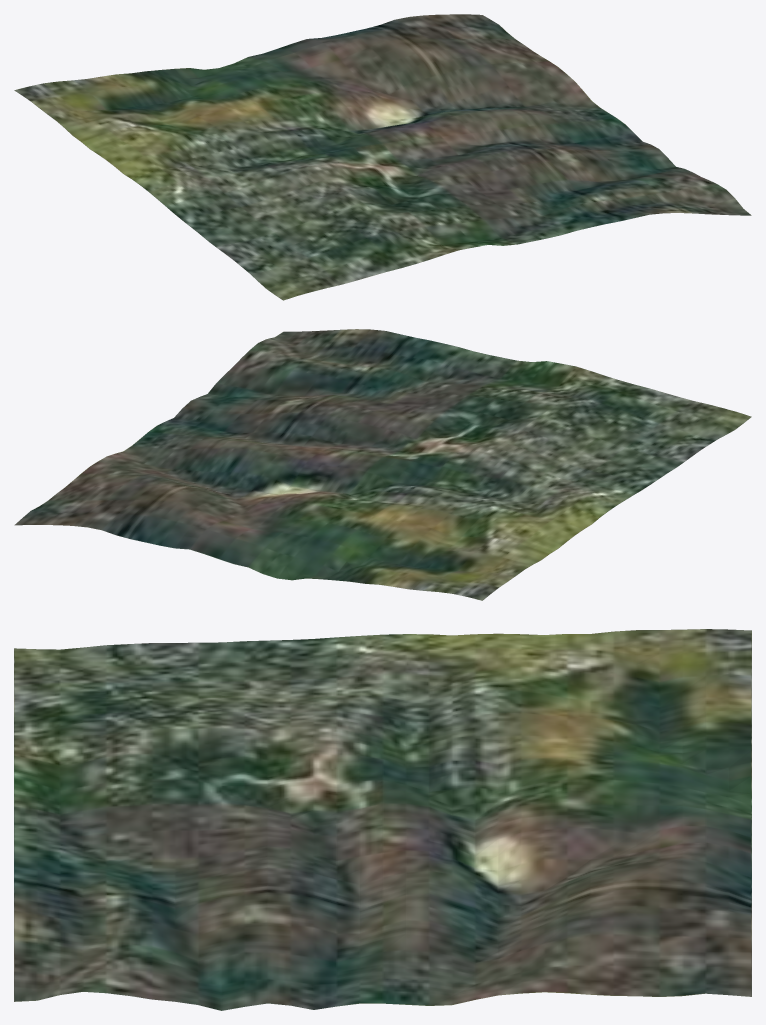
3 views of the same model, one above another, from view 1: azimuth 30°, elevation 25°; view 2: azimuth 150°, elevation 25°; view 3: azimuth 270°, elevation 25° (orthographic). The views are drawn at different scales.
Size of the model in its own units: 1951 by 203 by 1942.
Materials: 1 (1 with a texture image).
